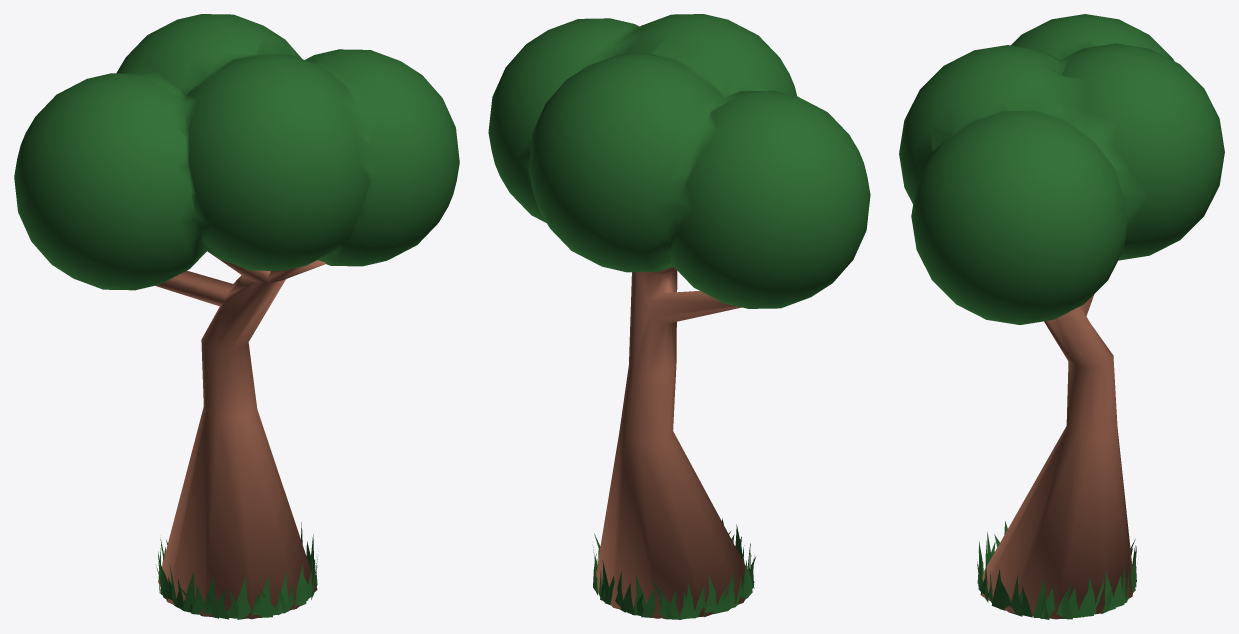
The model's file is tree1.fbx.
3 views of the same model, side by side, from view 1: azimuth 30°, elevation 25°; view 2: azimuth 150°, elevation 25°; view 3: azimuth 270°, elevation 25° (orthographic).
Parts seen in each view (by area): view 1: leaves.001, trunk.001, grass.001; view 2: leaves.001, trunk.001, grass.001; view 3: leaves.001, trunk.001, grass.001.
Boxes of the visible parts, left/top/right/bottom form: leaves.001: left=14, top=14, right=459, bottom=290; trunk.001: left=155, top=251, right=325, bottom=618; grass.001: left=155, top=522, right=318, bottom=619; leaves.001: left=488, top=14, right=870, bottom=308; trunk.001: left=593, top=266, right=754, bottom=618; grass.001: left=593, top=518, right=756, bottom=619; leaves.001: left=899, top=14, right=1224, bottom=324; trunk.001: left=981, top=294, right=1132, bottom=619; grass.001: left=977, top=521, right=1136, bottom=619.
Size of the model in its own units: 495 by 665 by 366.
